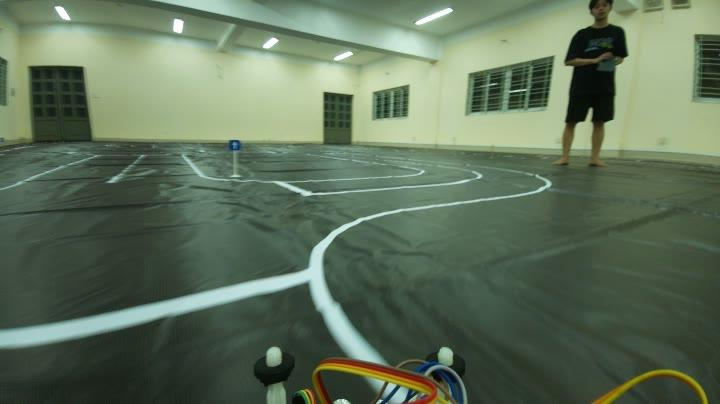onewayroad: (225, 138, 241, 152)
